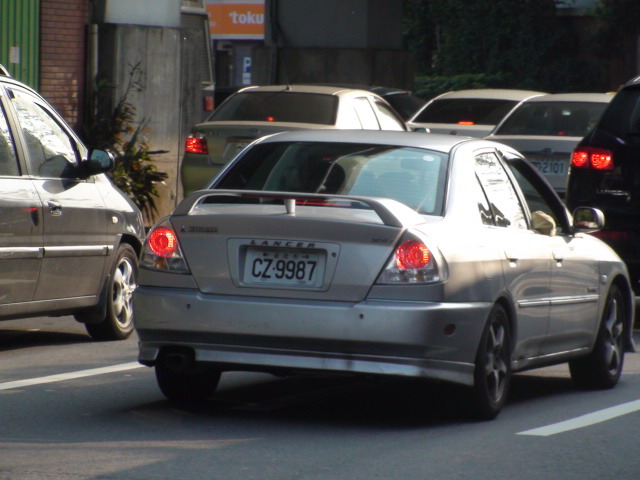plate: (249, 247, 320, 286)
